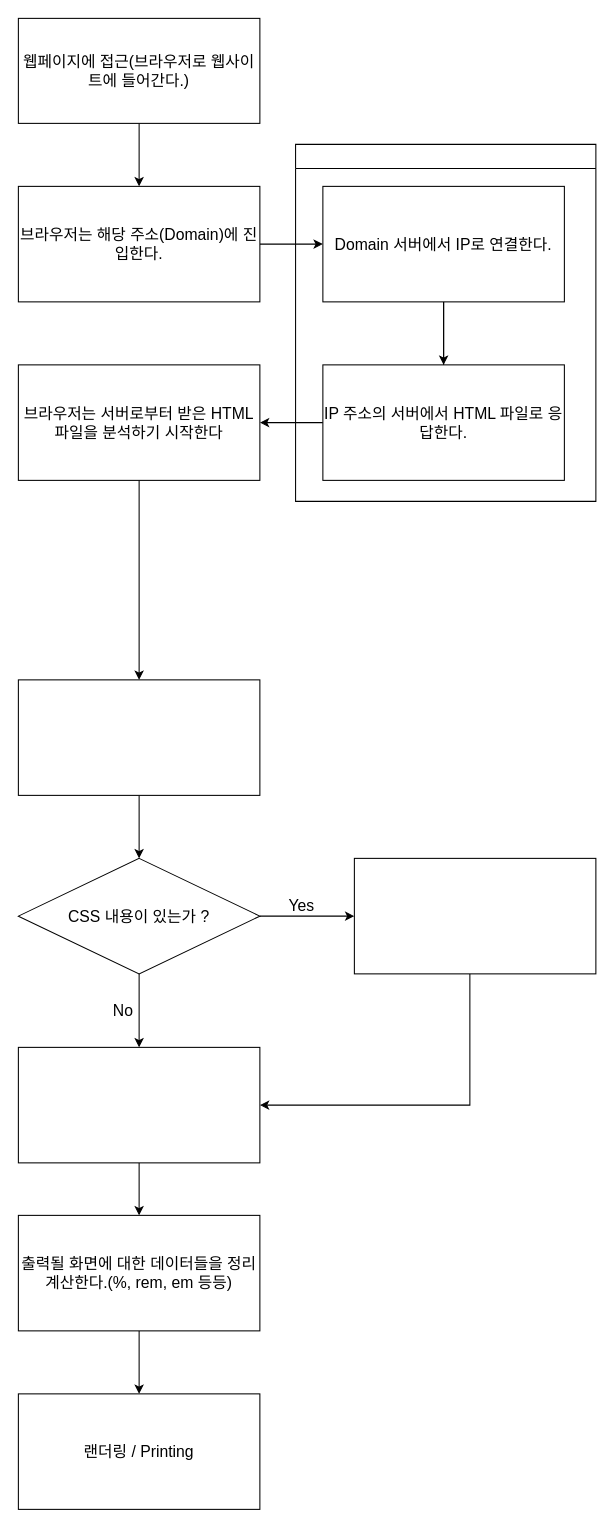
This 614x1528 diagram has some shape labels left out. Here are the shapes that lost their labels. From the top down, the centre of each, then its label:
[445,322]: Server
[138,737]: 분석한 파일을 DOM 객체에 프로퍼티로 정의한다. (HTML 파일의 구조만을 저장한다.)
[474,915]: CSS 파일은 따로 정의를 한다. (CSS Parser)
[138,1104]: 분석한 DOM객체에 CSS 파일 전부를 추가한다.
